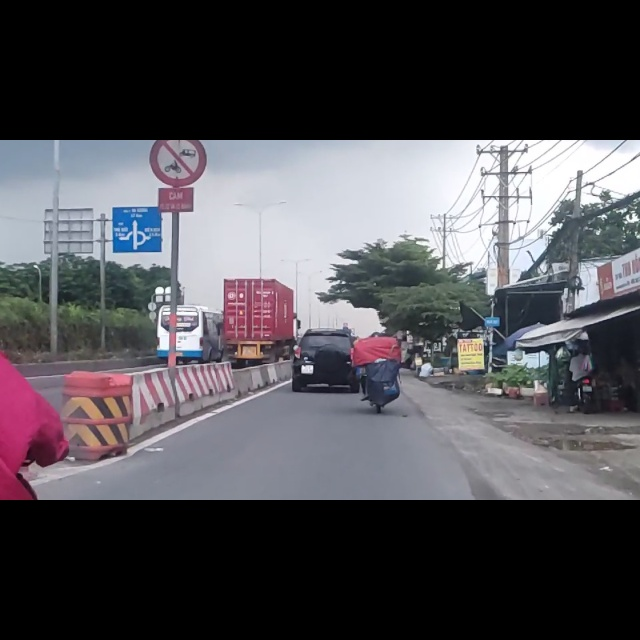bien_chi_dan: (149, 1, 208, 83)
